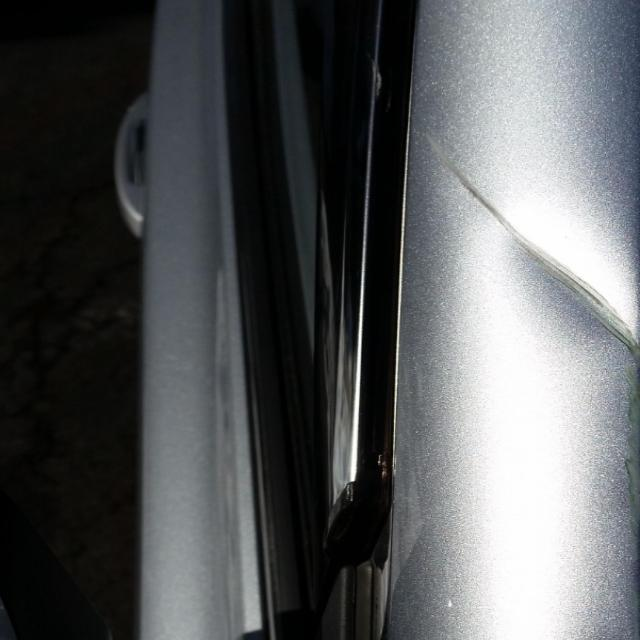dents: (409, 118, 640, 386)
